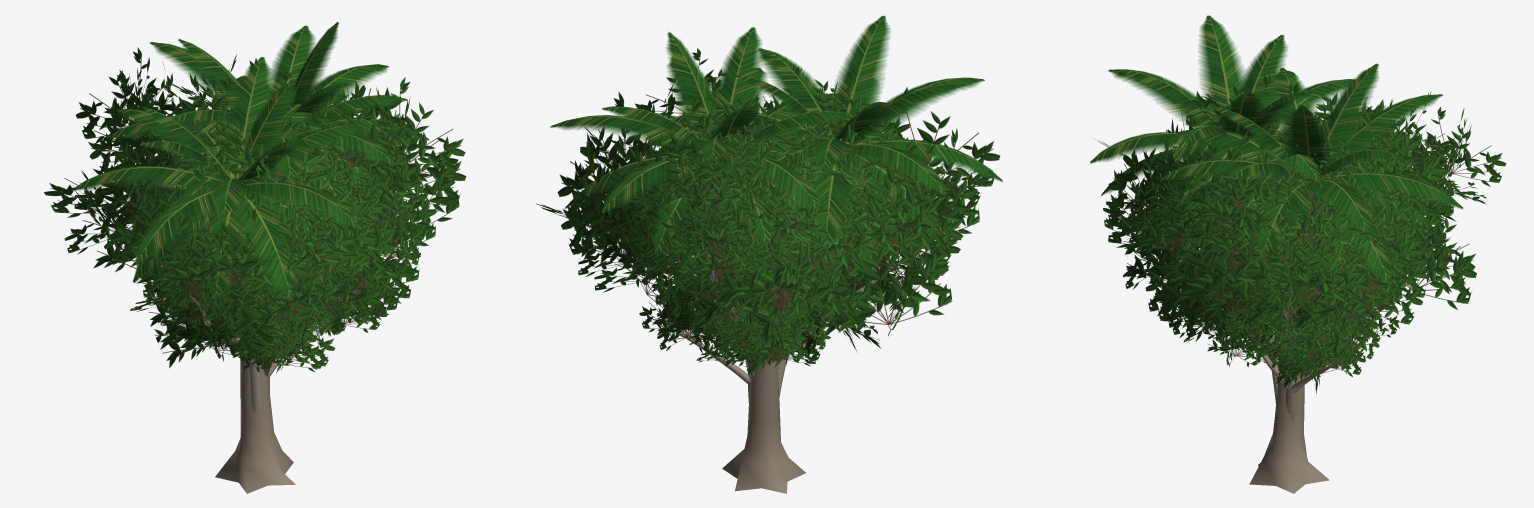
The model's file is trees.lo.glb.
The picture shows the model from 3 angles, left to right: view 1: azimuth 30°, elevation 25°; view 2: azimuth 150°, elevation 25°; view 3: azimuth 270°, elevation 25°; orthographic projection. The views are drawn at different scales.
Visible parts, largest first — view 1: Giant_Leaves, PalmB_Fronds, PalmA_Fronds, Giant_Trunk, Broad_Leaves, PalmB_Trunk; view 2: Giant_Leaves, PalmA_Fronds, PalmB_Fronds, Broad_Leaves, Giant_Trunk, Broad_Trunk; view 3: Giant_Leaves, PalmA_Fronds, PalmB_Fronds, Broad_Leaves, Giant_Trunk, Broad_Trunk.
Boxes of the visible parts, x1,y1,x2,y2 form: Giant_Leaves: (44, 47, 466, 368); PalmB_Fronds: (71, 57, 378, 301); PalmA_Fronds: (106, 22, 429, 242); Giant_Trunk: (168, 157, 358, 493); Broad_Leaves: (160, 266, 387, 373); PalmB_Trunk: (246, 259, 261, 411); Giant_Leaves: (536, 48, 1000, 356); PalmA_Fronds: (550, 27, 884, 275); PalmB_Fronds: (671, 15, 1002, 272); Broad_Leaves: (639, 260, 871, 375); Giant_Trunk: (650, 220, 899, 493); Broad_Trunk: (667, 305, 786, 402); Giant_Leaves: (1095, 74, 1506, 359); PalmA_Fronds: (1157, 63, 1463, 288); PalmB_Fronds: (1090, 15, 1355, 251); Broad_Leaves: (1172, 228, 1402, 393); Giant_Trunk: (1179, 175, 1443, 493); Broad_Trunk: (1249, 334, 1334, 423).
Bounding box in the file's own units: 14.47 × 14.1 × 14.6.
Materials: 5 (2 with a texture image).
